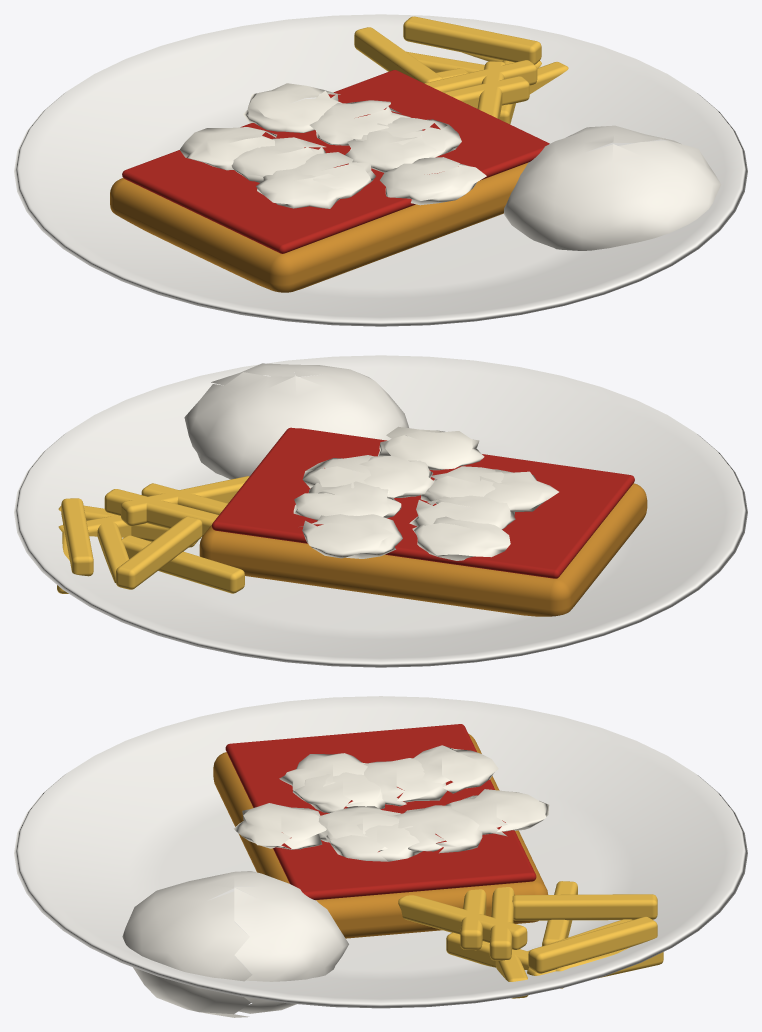
File: parmegiana.glb
3 renders of one model, top to bottom at view 1: azimuth 30°, elevation 25°; view 2: azimuth 150°, elevation 25°; view 3: azimuth 270°, elevation 25°, orthographic.
Visible parts, largest first — view 1: parmegiana; view 2: parmegiana; view 3: parmegiana.
Boxes of the visible parts, bbox=[...] form: parmegiana: bbox=[14, 14, 747, 326]; parmegiana: bbox=[14, 355, 747, 667]; parmegiana: bbox=[14, 696, 747, 1017].
Bounding box in the file's own units: 0.3 × 0.0519 × 0.3.
